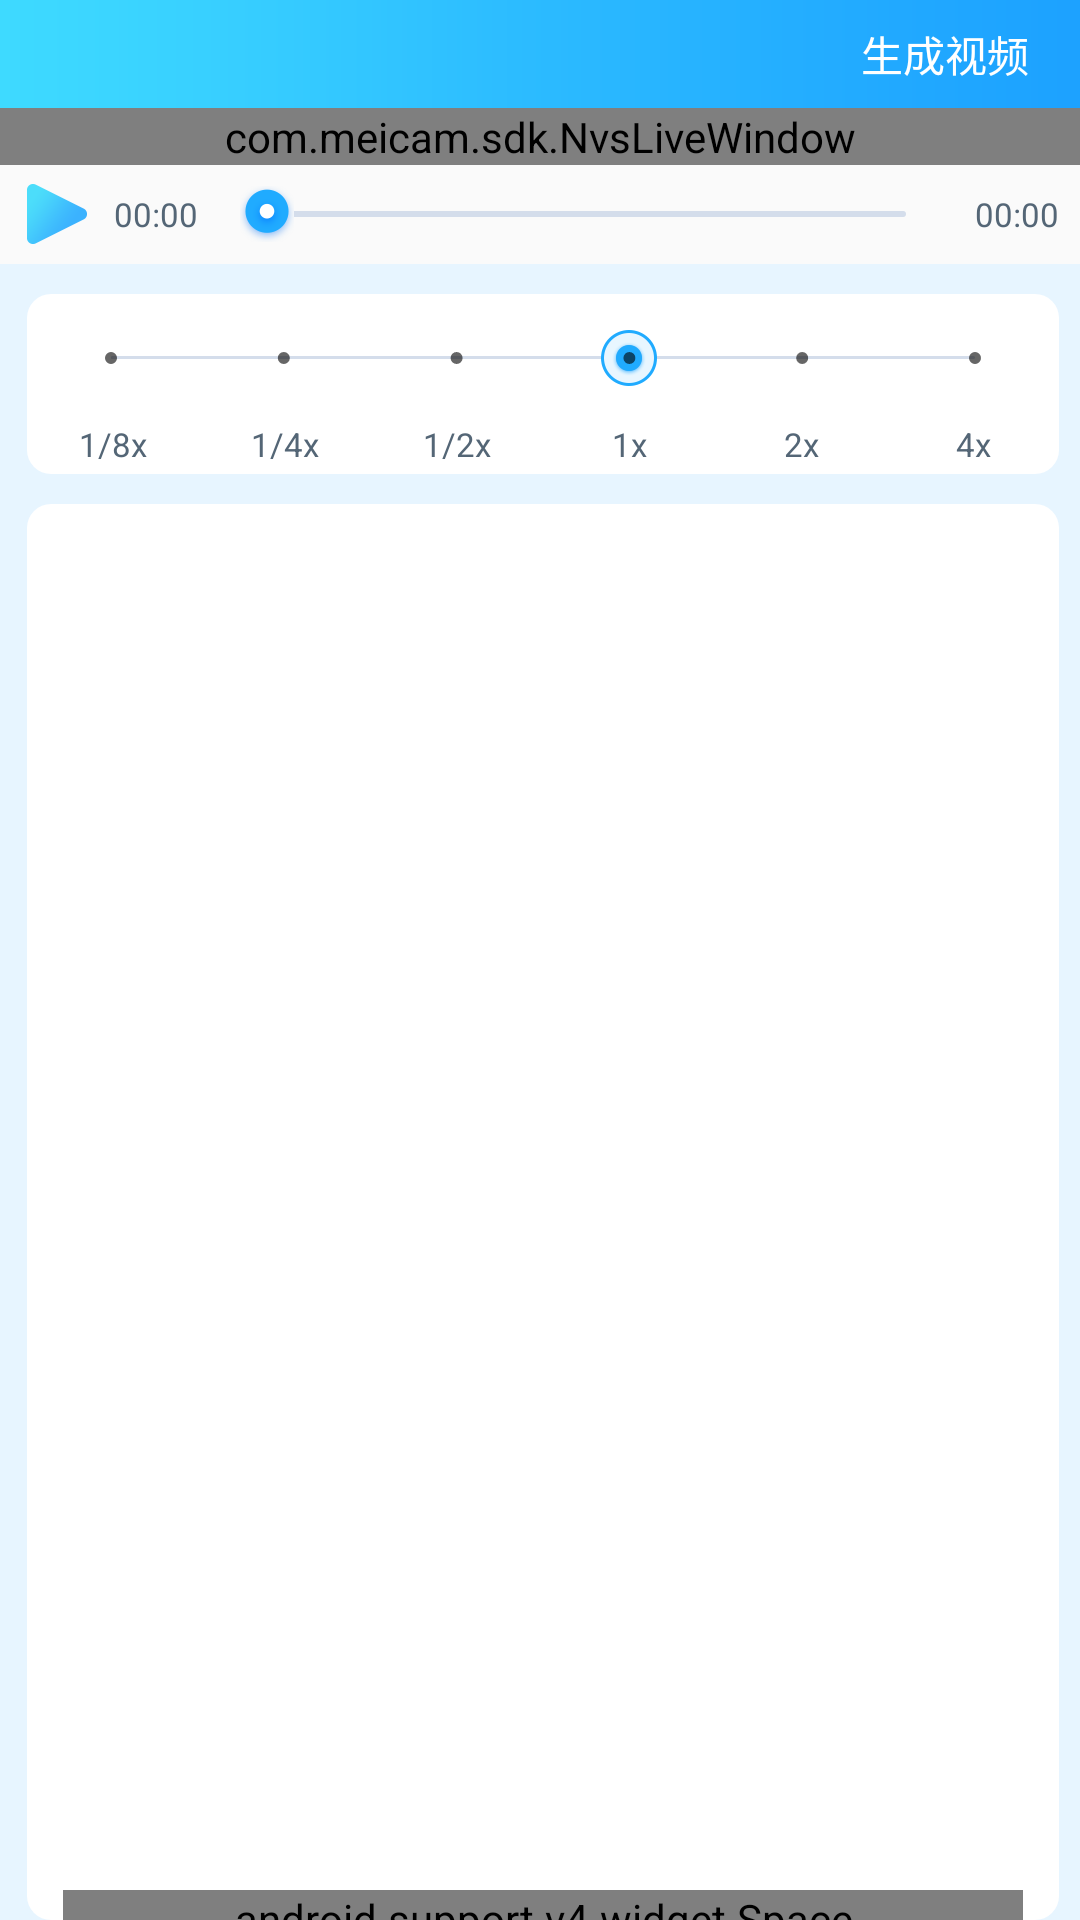

Where to tap for icons on this 1080 × 1920 app screen, as [x,y]:
play: [57,214]
